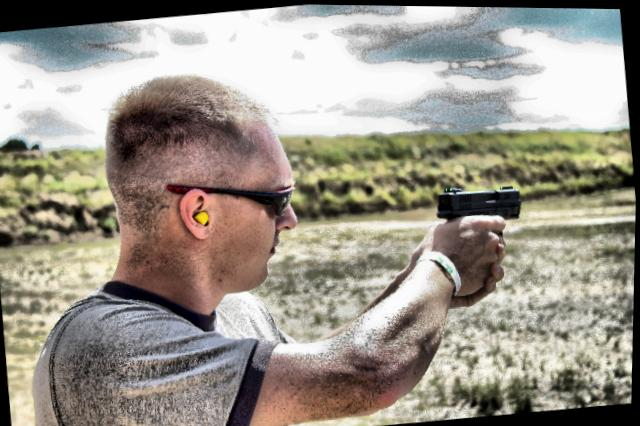pistol: (435, 172, 527, 262)
